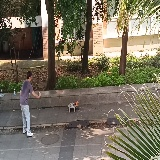fire: (75, 101, 79, 106)
